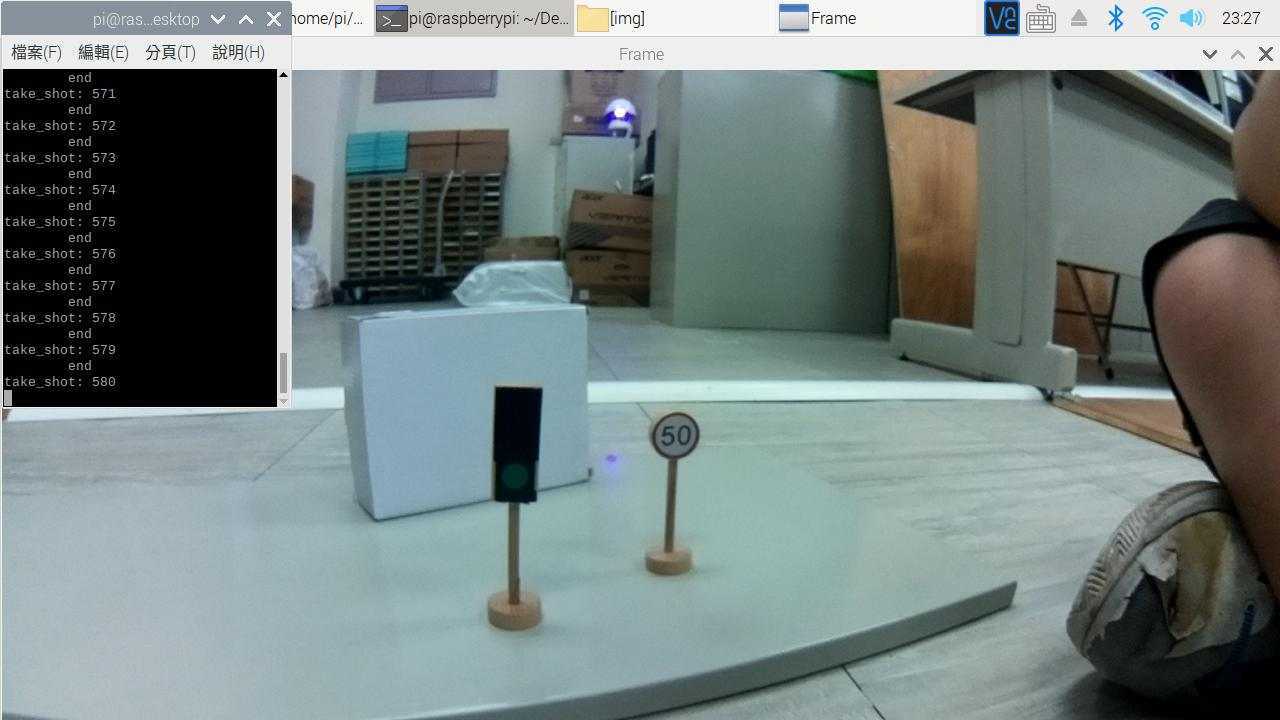Green: (477, 385, 551, 518)
Speed50: (637, 411, 712, 472)
